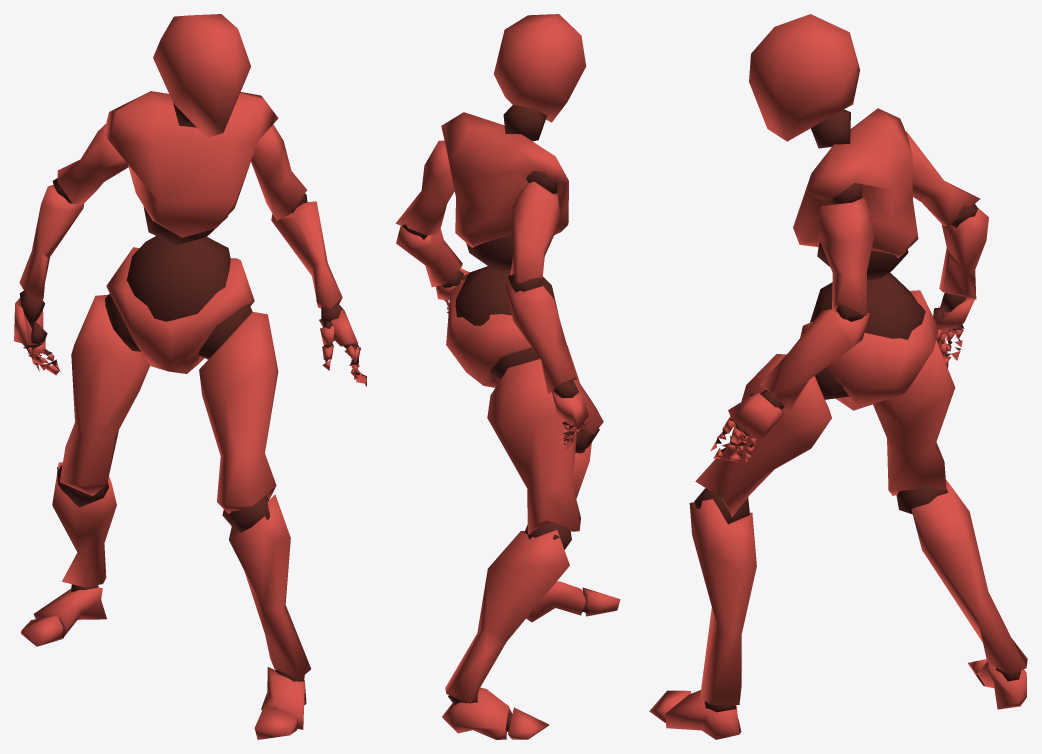
The picture shows the model from 3 angles, left to right: view 1: azimuth 30°, elevation 25°; view 2: azimuth 150°, elevation 25°; view 3: azimuth 270°, elevation 25°; orthographic projection. The views are drawn at different scales.
Parts seen in each view (by area): view 1: Beta_Surface; view 2: Beta_Surface; view 3: Beta_Surface.
Boxes of the visible parts, bbox=[...] form: Beta_Surface: bbox=[14, 14, 366, 739]; Beta_Surface: bbox=[395, 14, 620, 739]; Beta_Surface: bbox=[649, 14, 1027, 739].
Bounding box in the file's own units: 5.54 × 14.58 × 7.2.
